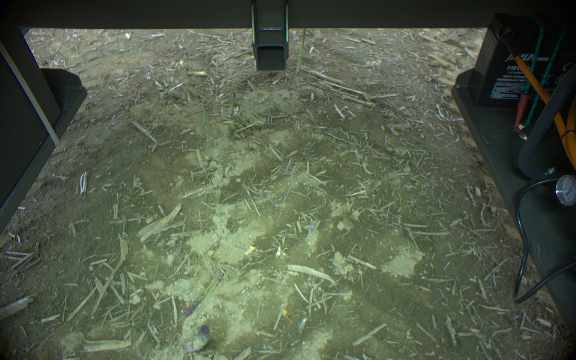aspa: (183, 267, 225, 319), (290, 27, 307, 80), (182, 324, 210, 353)
